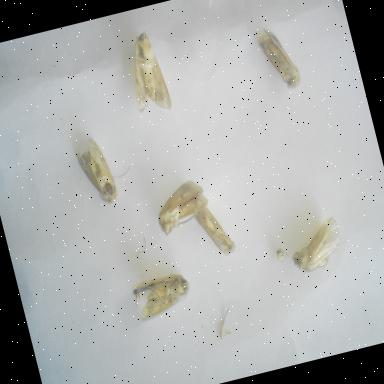abw: (112, 24, 176, 121), (280, 210, 350, 280), (250, 16, 308, 98), (148, 173, 218, 239), (68, 130, 124, 212), (126, 266, 199, 328), (187, 189, 240, 263)
